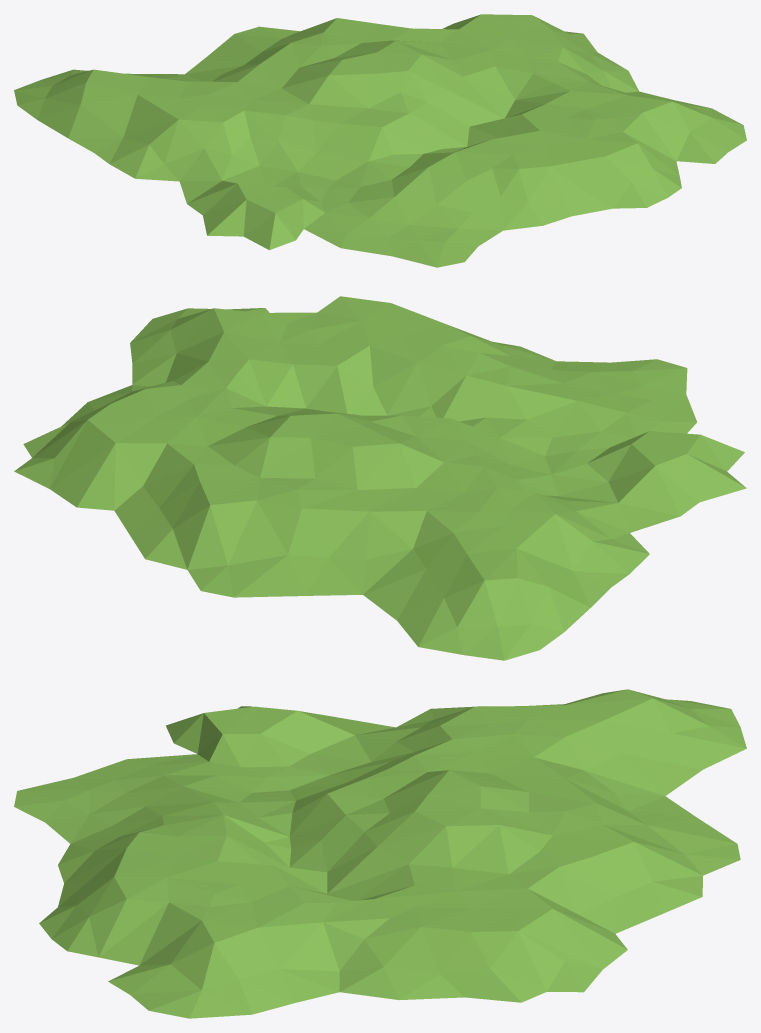
File: MT_Mountain_M_c_08_LOD.fbx
3 renders of one model, top to bottom at view 1: azimuth 30°, elevation 25°; view 2: azimuth 150°, elevation 25°; view 3: azimuth 270°, elevation 25°, orthographic. The views are drawn at different scales.
Visible parts, largest first — view 1: MT_Mountain_M_c_08_LOD0; view 2: MT_Mountain_M_c_08_LOD0; view 3: MT_Mountain_M_c_08_LOD0.
Boxes of the visible parts, x1,y1,x2,y2 form: MT_Mountain_M_c_08_LOD0: (14,14,746,267); MT_Mountain_M_c_08_LOD0: (14,296,746,660); MT_Mountain_M_c_08_LOD0: (14,689,746,1018).
Size of what is drawn, in the model's own units: 4688 by 417 by 4570.
